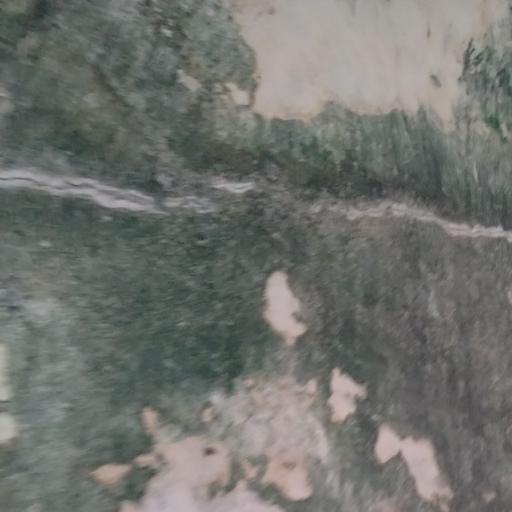algae: (0, 1, 512, 510)
